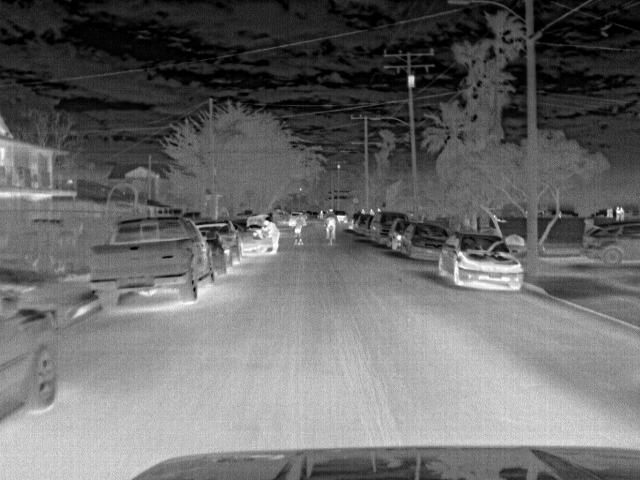car: (87, 212, 219, 312), (3, 292, 58, 424), (438, 234, 526, 292), (579, 220, 640, 266), (402, 224, 454, 261), (197, 222, 242, 263), (234, 211, 273, 253), (371, 213, 403, 245), (390, 220, 413, 250), (355, 213, 370, 233), (363, 214, 376, 236), (348, 210, 360, 231), (333, 209, 350, 223)
person: (259, 219, 279, 253), (290, 212, 307, 246), (324, 207, 337, 243)
